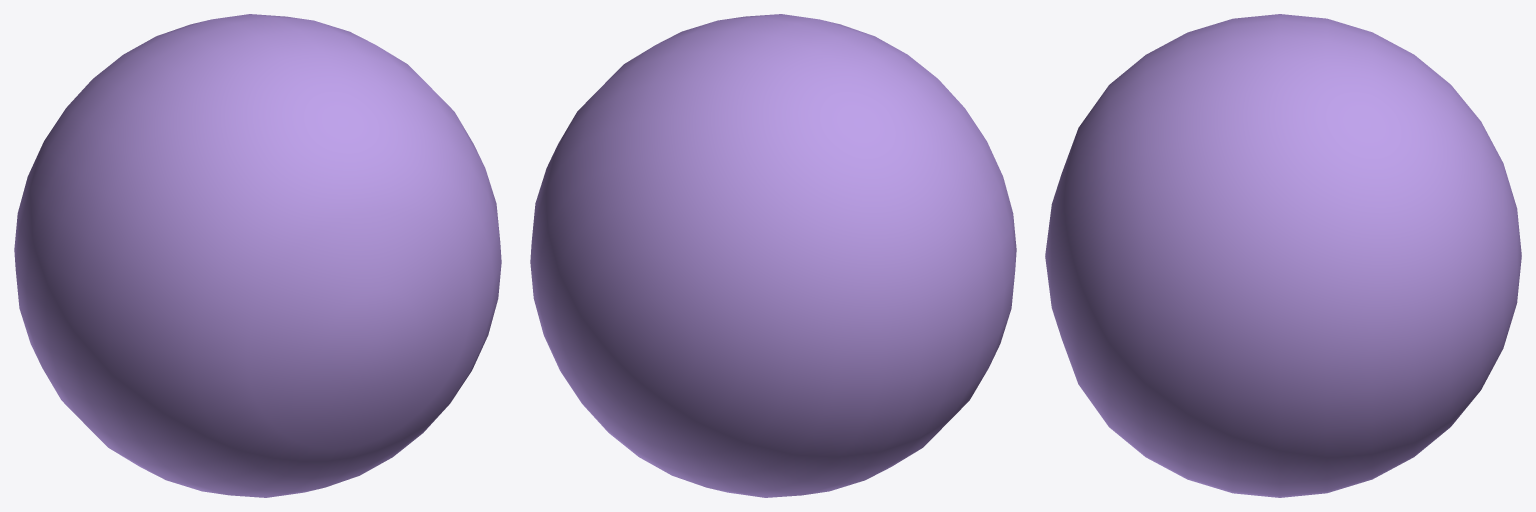
The model's file is eyeball_obj.obj.
3 views of the same model, side by side, from view 1: azimuth 30°, elevation 25°; view 2: azimuth 150°, elevation 25°; view 3: azimuth 270°, elevation 25° (orthographic).
Visible parts, largest first — view 1: eyeball; view 2: eyeball; view 3: eyeball.
Part boxes in pixels (box(x1,y1,x2,y2)): eyeball: box(14, 14, 501, 497); eyeball: box(530, 14, 1016, 497); eyeball: box(1045, 14, 1521, 497).
Bounding box in the file's own units: 1.47 × 1.45 × 1.43.
